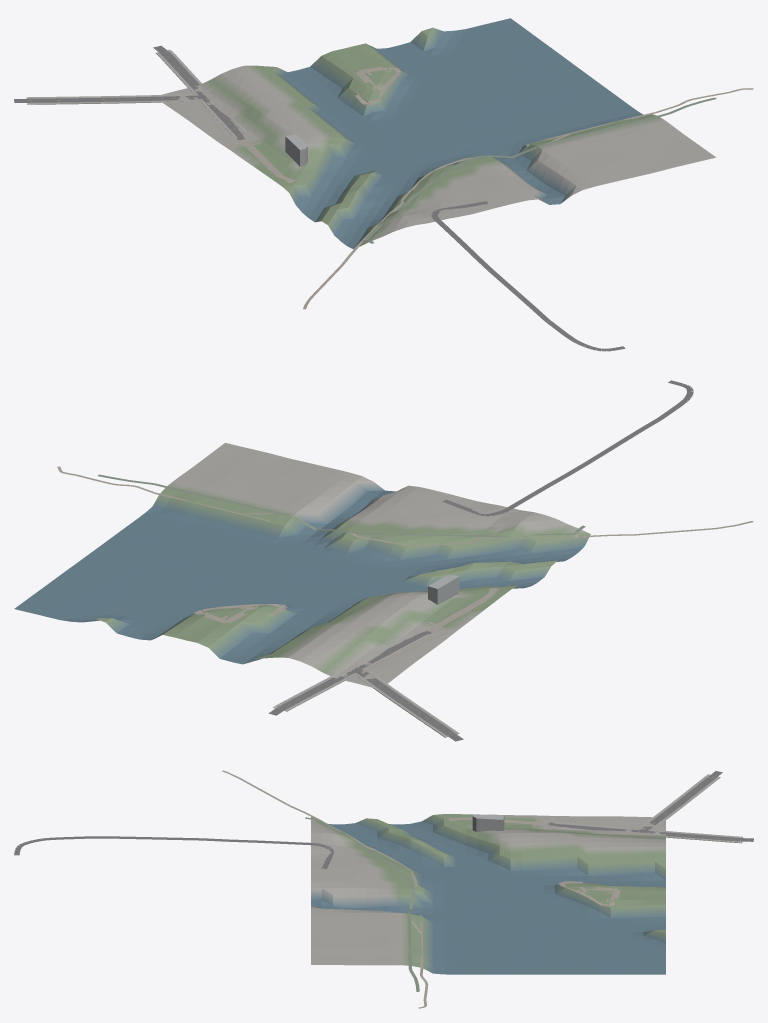
The model's file is tile_-1_5.glb.
The picture shows the model from 3 angles, top to bottom: view 1: azimuth 30°, elevation 25°; view 2: azimuth 150°, elevation 25°; view 3: azimuth 270°, elevation 25°; orthographic projection. The views are drawn at different scales.
Visible parts, largest first — view 1: terrain, paths, roads, sidewalks; view 2: terrain, paths, roads, sidewalks, buildings; view 3: terrain, roads, paths, sidewalks, buildings.
Boxes of the visible parts, left/top/right/bottom form: terrain: left=162, top=18, right=715, bottom=249; paths: left=192, top=66, right=753, bottom=309; roads: left=14, top=45, right=625, bottom=351; sidewalks: left=26, top=49, right=246, bottom=135; terrain: left=14, top=443, right=590, bottom=687; paths: left=57, top=466, right=753, bottom=675; roads: left=268, top=380, right=693, bottom=741; sidewalks: left=272, top=632, right=459, bottom=737; buildings: left=428, top=575, right=459, bottom=604; terrain: left=311, top=814, right=665, bottom=974; roads: left=14, top=771, right=753, bottom=868; paths: left=222, top=770, right=652, bottom=1008; sidewalks: left=557, top=774, right=742, bottom=843; buildings: left=472, top=814, right=504, bottom=831.
Size of the model in its own units: 408 by 21.72 by 533.
